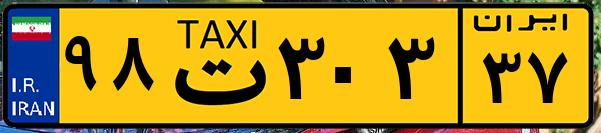0: (330, 28, 385, 110)
3: (270, 28, 330, 110), (385, 28, 445, 110), (475, 38, 525, 113)
7: (525, 38, 570, 115)
8: (110, 28, 158, 98)
9: (57, 26, 110, 100)
ت: (158, 12, 270, 120)
